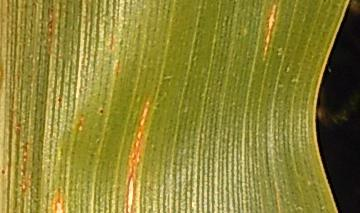tarspot: (98, 108, 105, 115), (57, 97, 64, 104), (1, 168, 6, 176)
